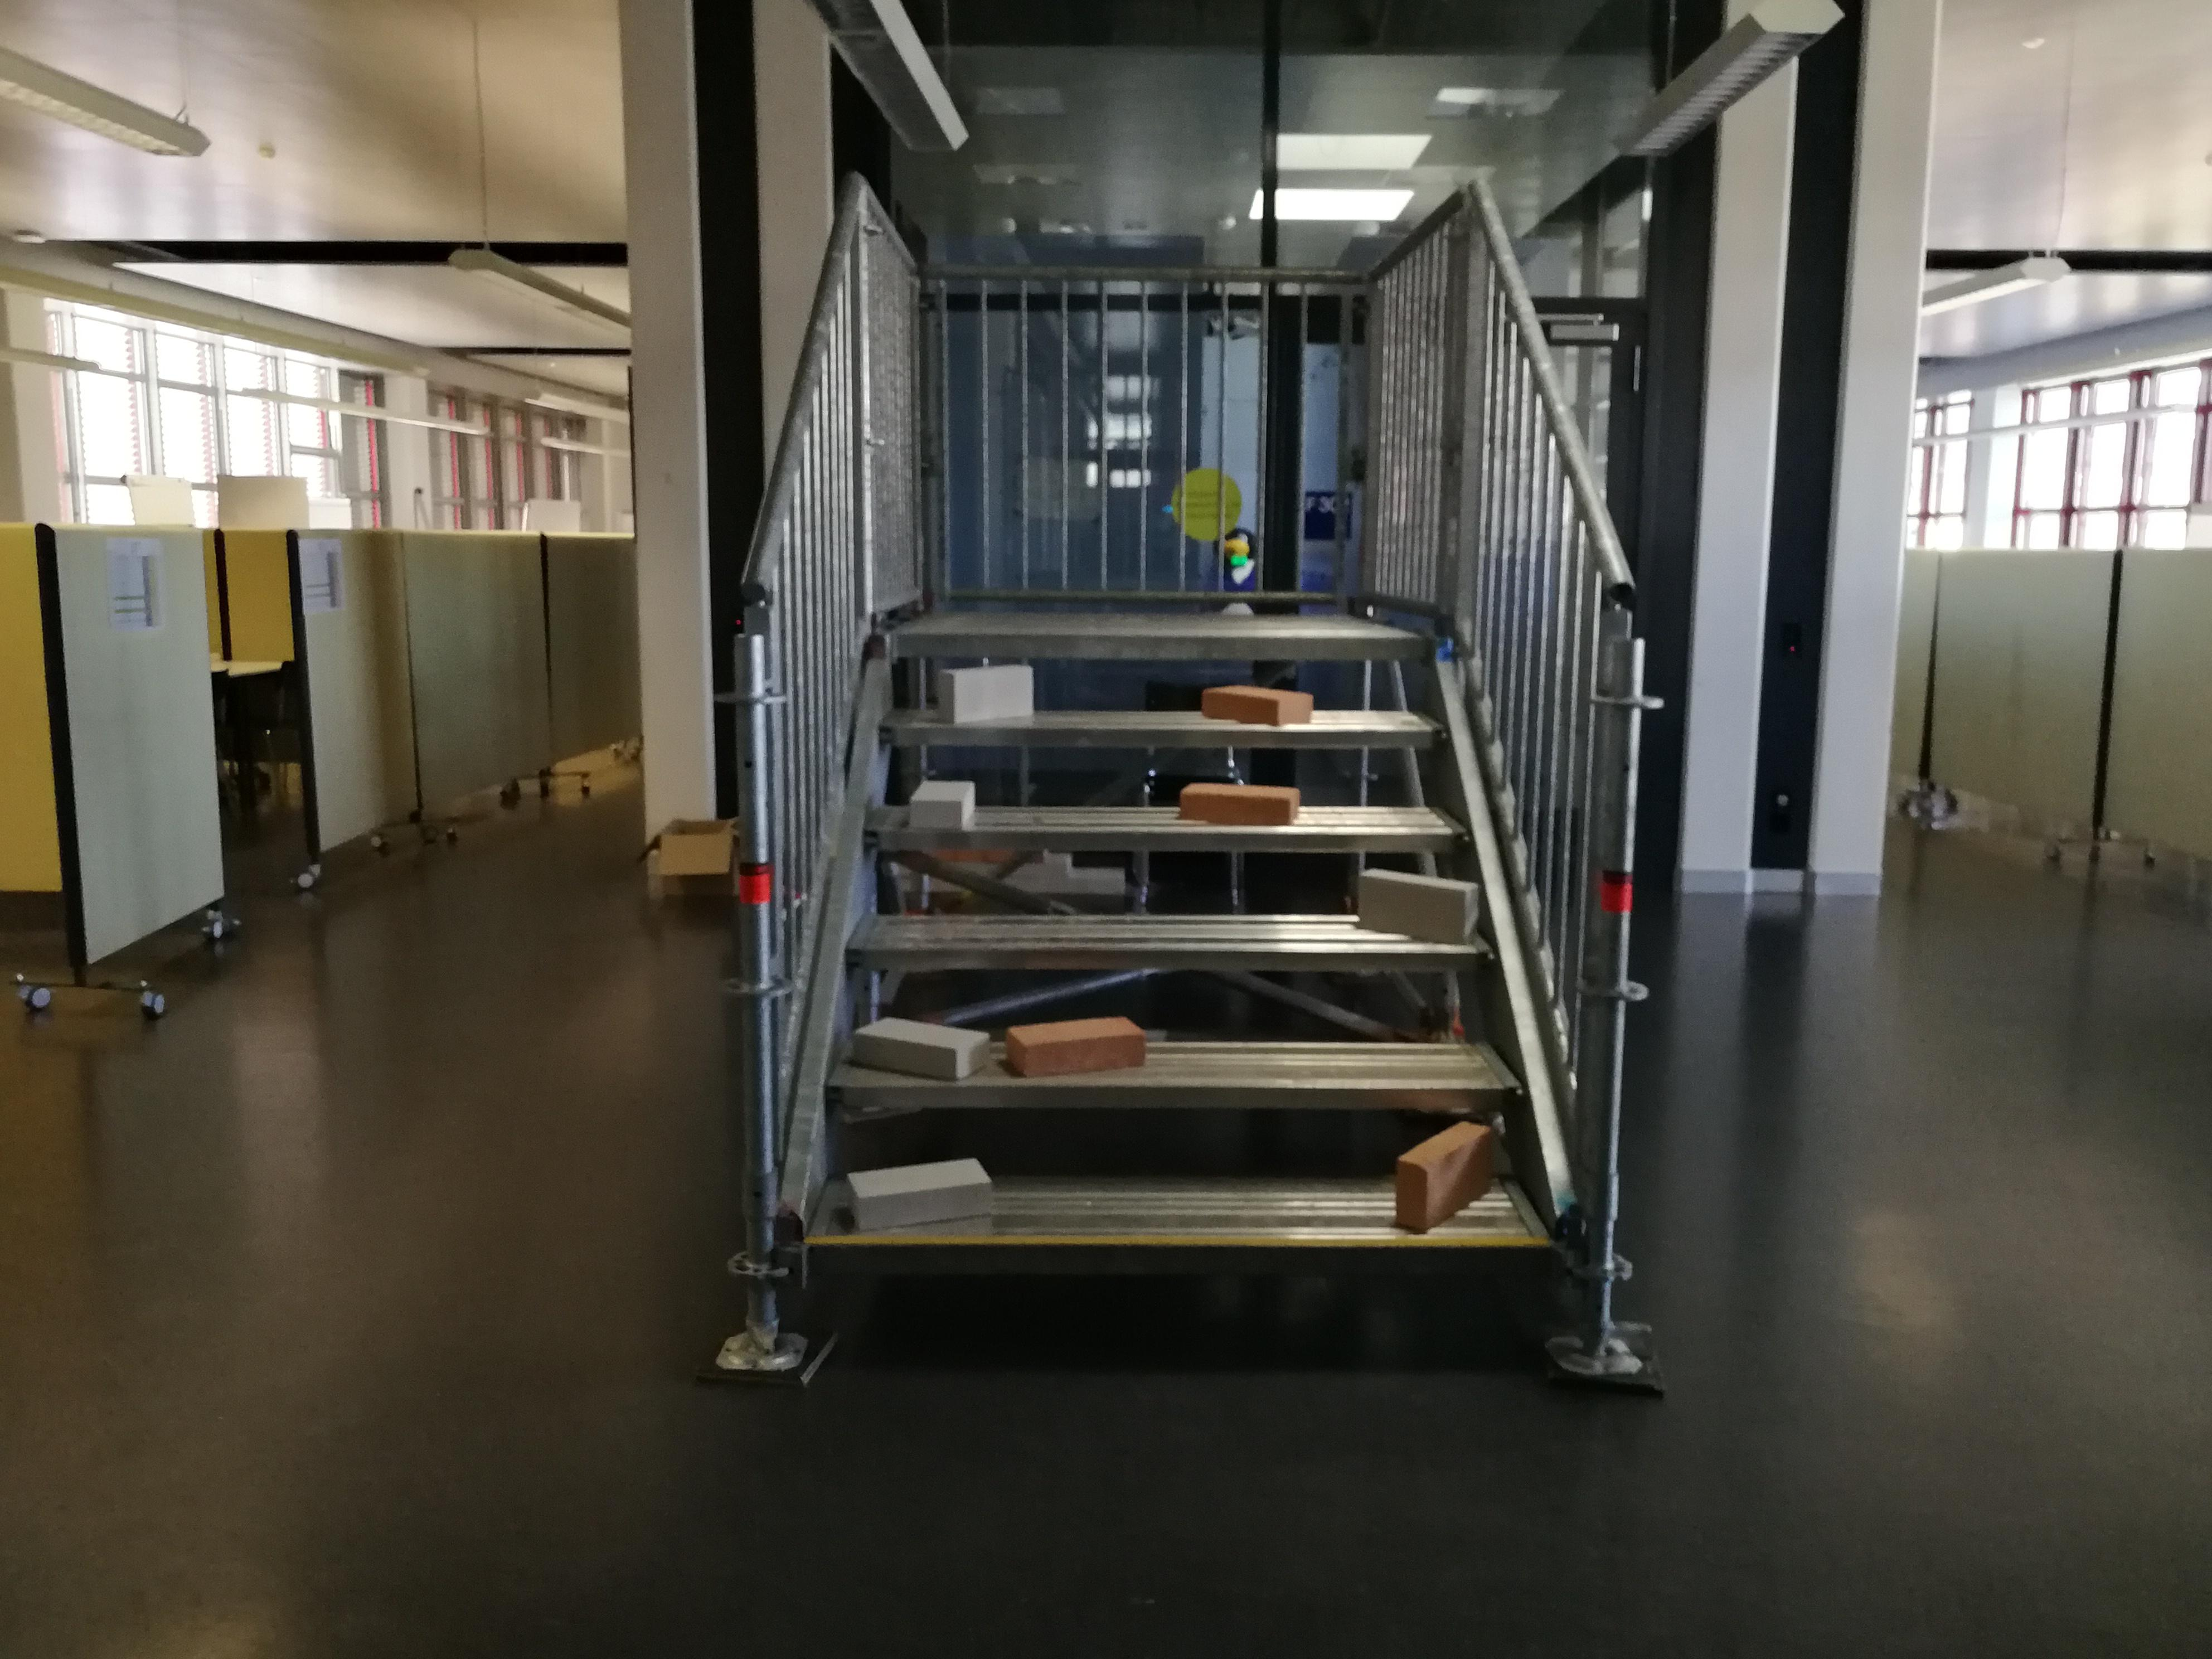brick: (843, 1159, 989, 1236), (1397, 1122, 1494, 1236), (1003, 1014, 1143, 1080), (852, 1016, 991, 1082), (1359, 866, 1477, 938), (939, 664, 1028, 720), (1181, 782, 1298, 821), (1202, 685, 1310, 723), (906, 777, 972, 828)
edge: (805, 1241, 1559, 1283), (822, 1082, 1524, 1110), (843, 948, 1494, 972), (880, 721, 1446, 749), (892, 633, 1425, 660), (862, 828, 1468, 852)
stairs: (695, 167, 1670, 1396)
steps: (796, 615, 1573, 1297)
